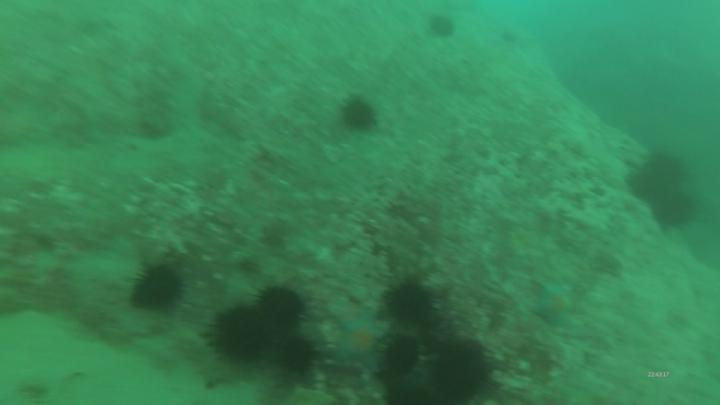echinus: (201, 300, 272, 369), (437, 337, 492, 405), (130, 259, 186, 315), (263, 329, 320, 379), (255, 282, 309, 333), (648, 182, 697, 230), (386, 280, 436, 327), (381, 331, 423, 380), (624, 165, 672, 205), (338, 92, 379, 134), (644, 148, 686, 186), (382, 377, 437, 405), (427, 12, 457, 40)
starfish: (329, 307, 392, 377), (527, 275, 574, 333)
